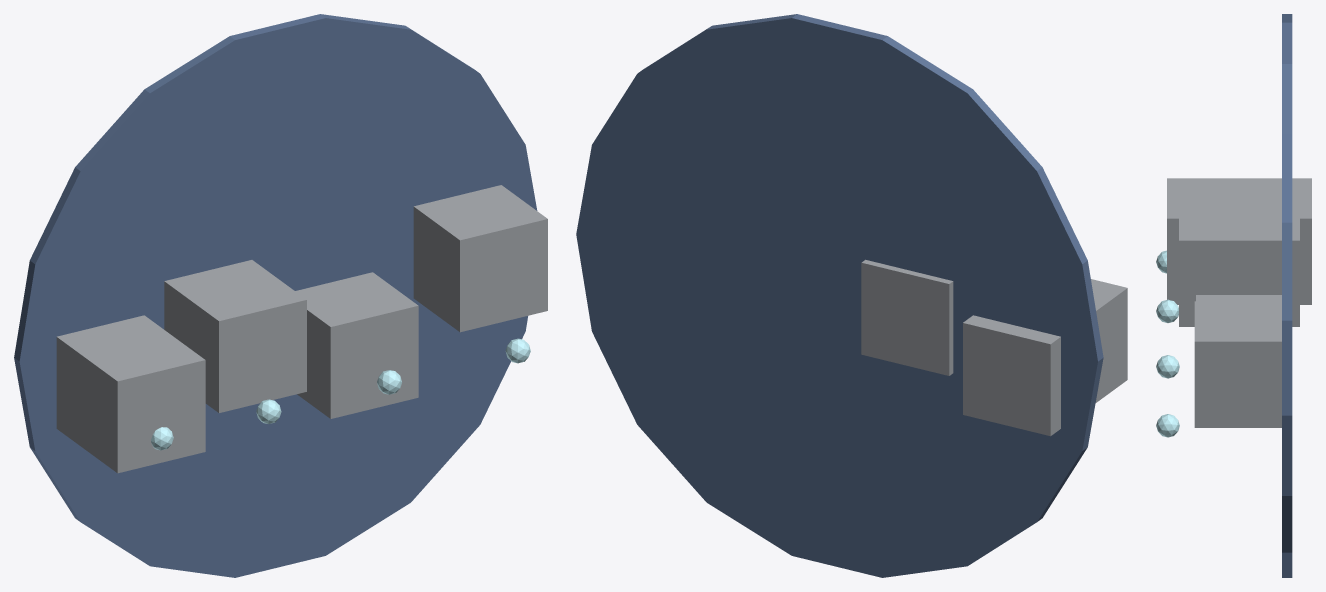
File: 02_local_prop_cluster.glb
The picture shows the model from 3 angles, left to right: view 1: azimuth 30°, elevation 25°; view 2: azimuth 150°, elevation 25°; view 3: azimuth 270°, elevation 25°; orthographic projection. The views are drawn at different scales.
Parts seen in each view (by area): view 1: scatter_base, tech_crate_0, tech_crate_3, tech_crate_1, tech_crate_2; view 2: scatter_base, tech_crate_0, tech_crate_1; view 3: tech_crate_1, tech_crate_3, scatter_base, tech_crate_0, tech_crate_2, status_light_2, status_light_3, status_light_1.
Boxes of the visible parts, <box> form: scatter_base: <box>14,14,537,577</box>; tech_crate_0: <box>56,315,205,473</box>; tech_crate_3: <box>413,185,547,332</box>; tech_crate_1: <box>164,260,306,412</box>; tech_crate_2: <box>295,272,418,418</box>; scatter_base: <box>576,14,1103,577</box>; tech_crate_0: <box>963,279,1127,436</box>; tech_crate_1: <box>861,259,953,375</box>; tech_crate_1: <box>1179,200,1299,326</box>; tech_crate_3: <box>1194,301,1281,427</box>; scatter_base: <box>1282,14,1292,577</box>; tech_crate_0: <box>1167,178,1311,304</box>; tech_crate_2: <box>1196,295,1281,301</box>; status_light_2: <box>1156,355,1179,378</box>; status_light_3: <box>1156,414,1179,437</box>; status_light_1: <box>1156,299,1178,322</box>.
Bounding box in the file's own units: 1.9 × 1.87 × 0.523.
